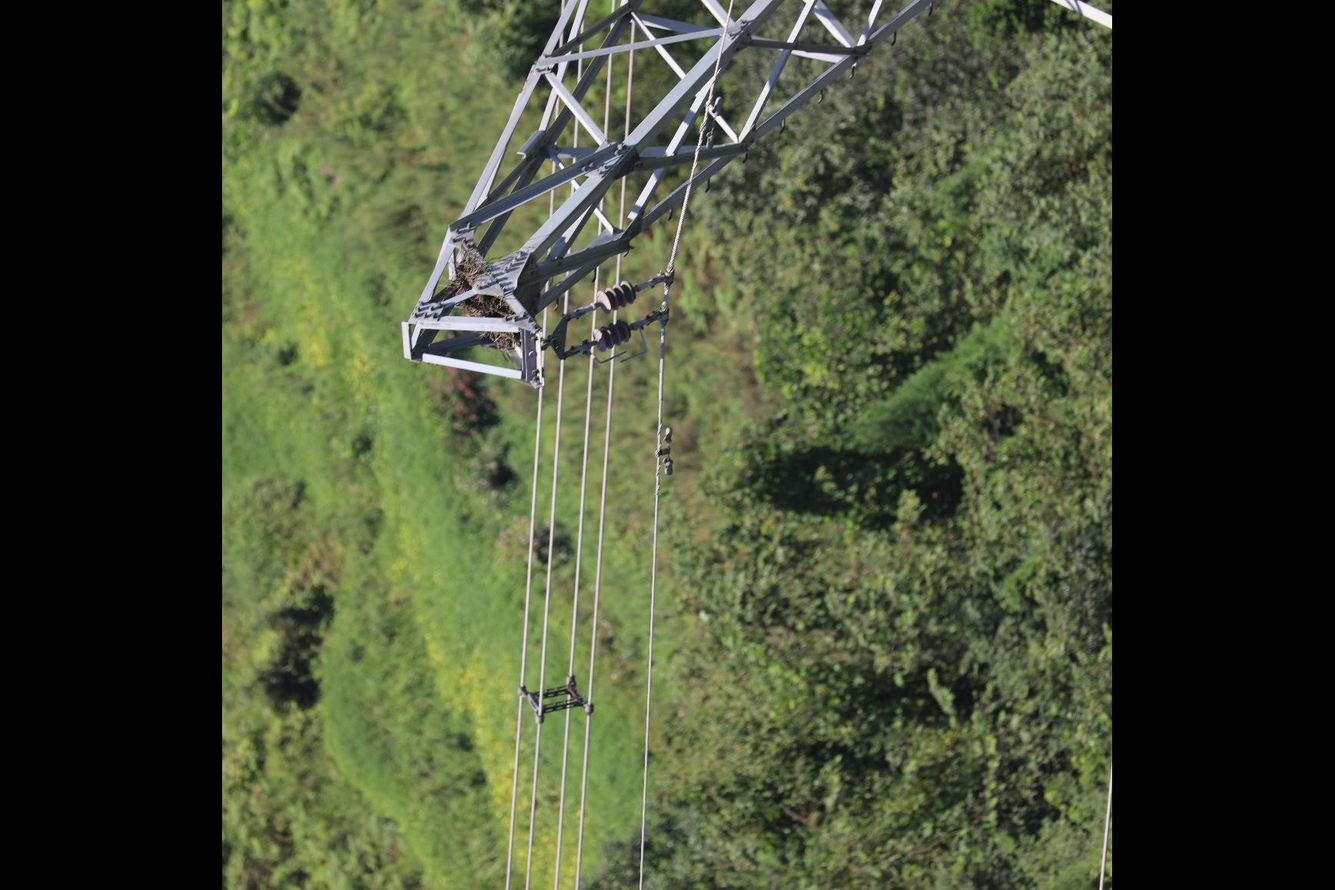damper: (697, 94, 725, 151), (653, 423, 676, 480)
nest: (447, 251, 517, 356)
